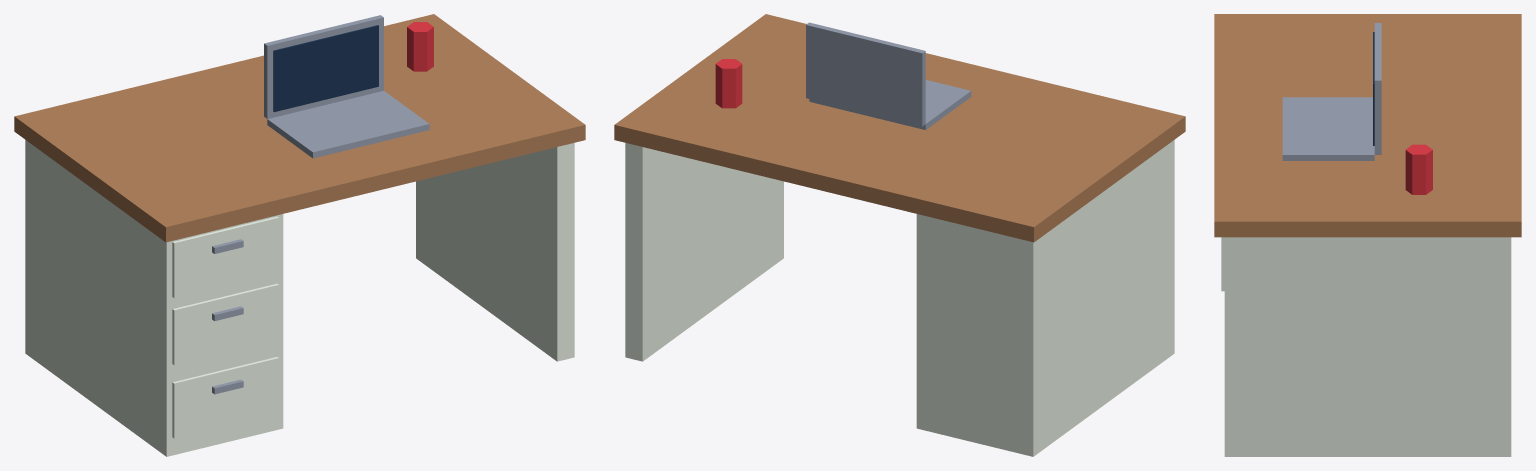
The model's file is desk.04597c3e0c2f.glb.
The picture shows the model from 3 angles, left to right: view 1: azimuth 30°, elevation 25°; view 2: azimuth 150°, elevation 25°; view 3: azimuth 270°, elevation 25°; orthographic projection.
Parts seen in each view (by area): view 1: desk; view 2: desk; view 3: desk.
Part boxes in pixels (x1,y1,x2,y2): desk: (14,14,585,456); desk: (614,14,1185,456); desk: (1214,14,1521,456).
Size of the model in its own units: 1.44 by 1.03 by 0.9.
